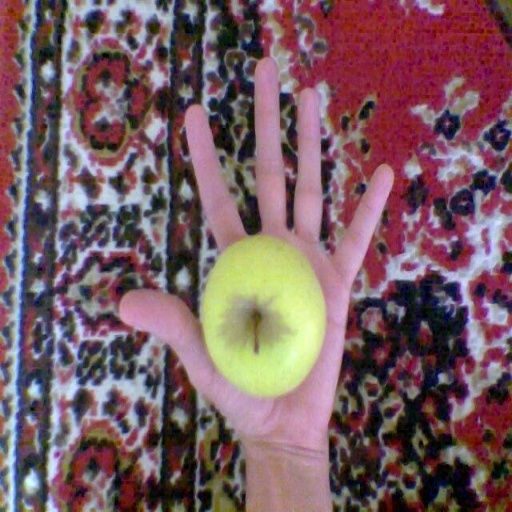hand: (76, 67, 435, 486)
